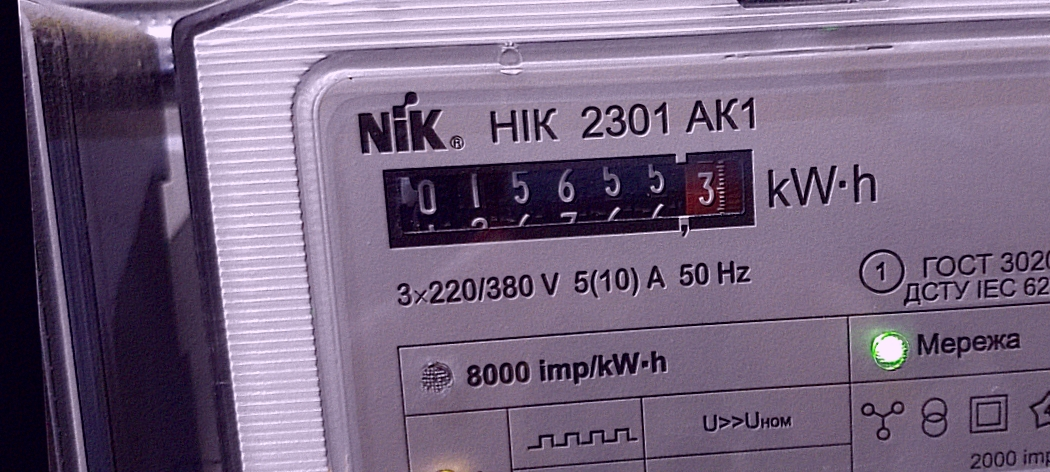0: (413, 175, 441, 218)
1: (465, 172, 486, 211)
3: (695, 170, 716, 207)
5: (507, 170, 533, 206), (600, 166, 625, 199), (647, 162, 667, 196)
6: (554, 168, 579, 205)
screen: (368, 129, 772, 266)
